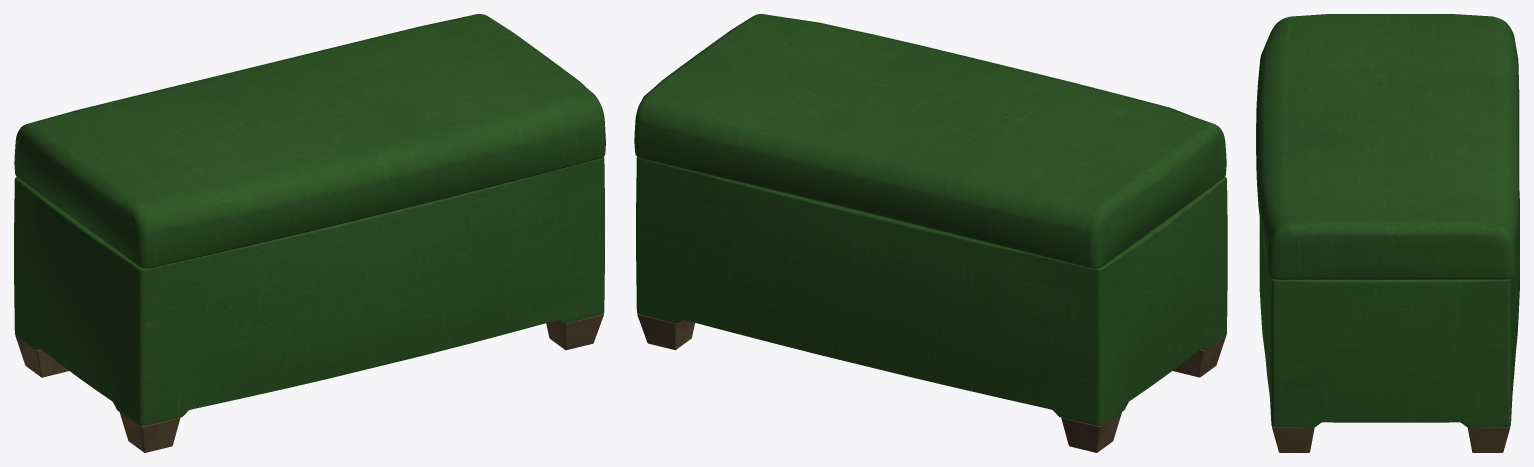
File: abo-B073G947XM.glb
3 renders of one model, left to right at view 1: azimuth 30°, elevation 25°; view 2: azimuth 150°, elevation 25°; view 3: azimuth 270°, elevation 25°, orthographic. The views are drawn at different scales.
Bounding box in the file's own units: 0.989 × 0.501 × 0.505.
Materials: 1 (1 with a texture image).
